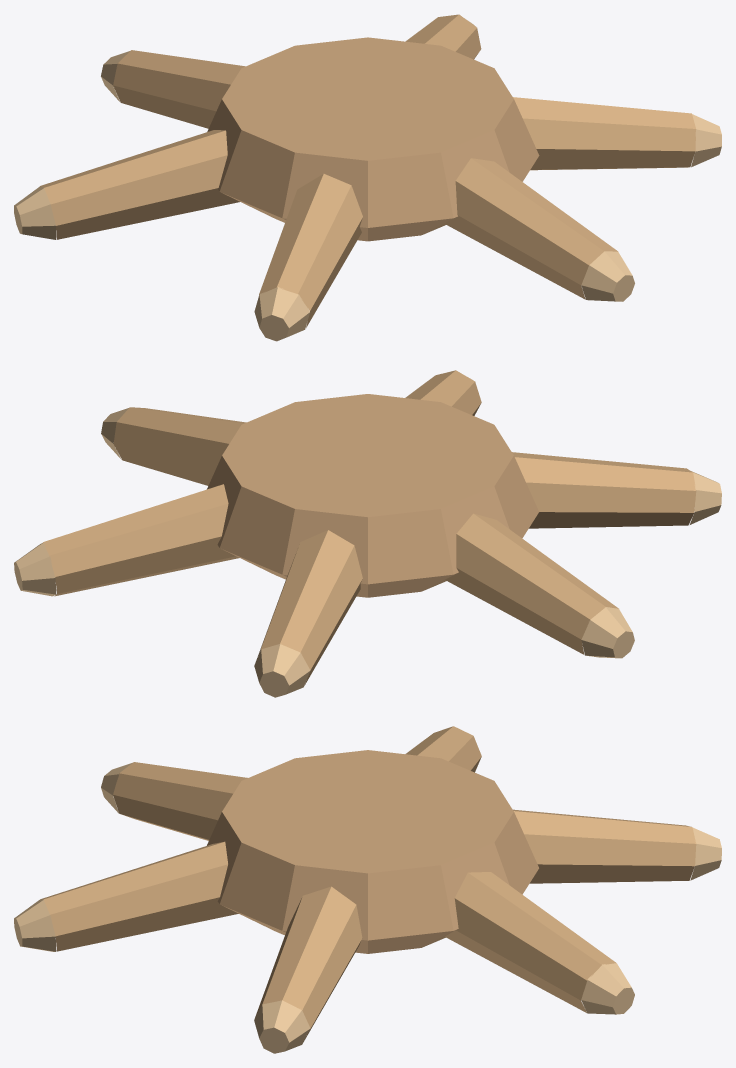
File: FibrousRoot.glb
3 renders of one model, top to bottom at view 1: azimuth 30°, elevation 25°; view 2: azimuth 150°, elevation 25°; view 3: azimuth 270°, elevation 25°, orthographic.
Visible parts, largest first — view 1: FibrousRoot_FibrousRoots, FibrousRoot_FibrousCrown, FibrousRoot_FibrousTips; view 2: FibrousRoot_FibrousRoots, FibrousRoot_FibrousCrown, FibrousRoot_FibrousTips; view 3: FibrousRoot_FibrousRoots, FibrousRoot_FibrousCrown, FibrousRoot_FibrousTips.
Boxes of the visible parts, left/top/right/bottom form: FibrousRoot_FibrousRoots: left=40, top=14, right=696, bottom=327; FibrousRoot_FibrousCrown: left=207, top=37, right=539, bottom=241; FibrousRoot_FibrousTips: left=14, top=20, right=721, bottom=341; FibrousRoot_FibrousRoots: left=43, top=370, right=696, bottom=685; FibrousRoot_FibrousCrown: left=207, top=394, right=538, bottom=597; FibrousRoot_FibrousTips: left=14, top=378, right=721, bottom=697; FibrousRoot_FibrousRoots: left=41, top=726, right=696, bottom=1039; FibrousRoot_FibrousCrown: left=207, top=750, right=538, bottom=953; FibrousRoot_FibrousTips: left=14, top=762, right=721, bottom=1053.
Size of the model in its own units: 3.64 by 0.5888 by 3.64.
